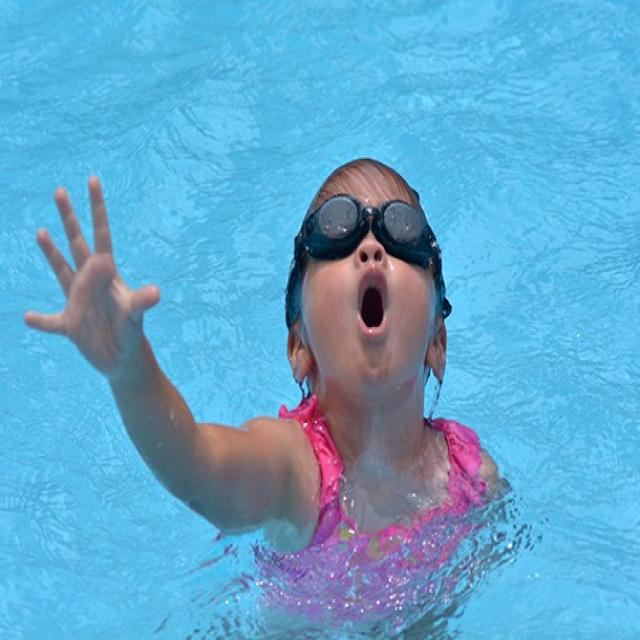Drowning: (25, 157, 518, 565)
